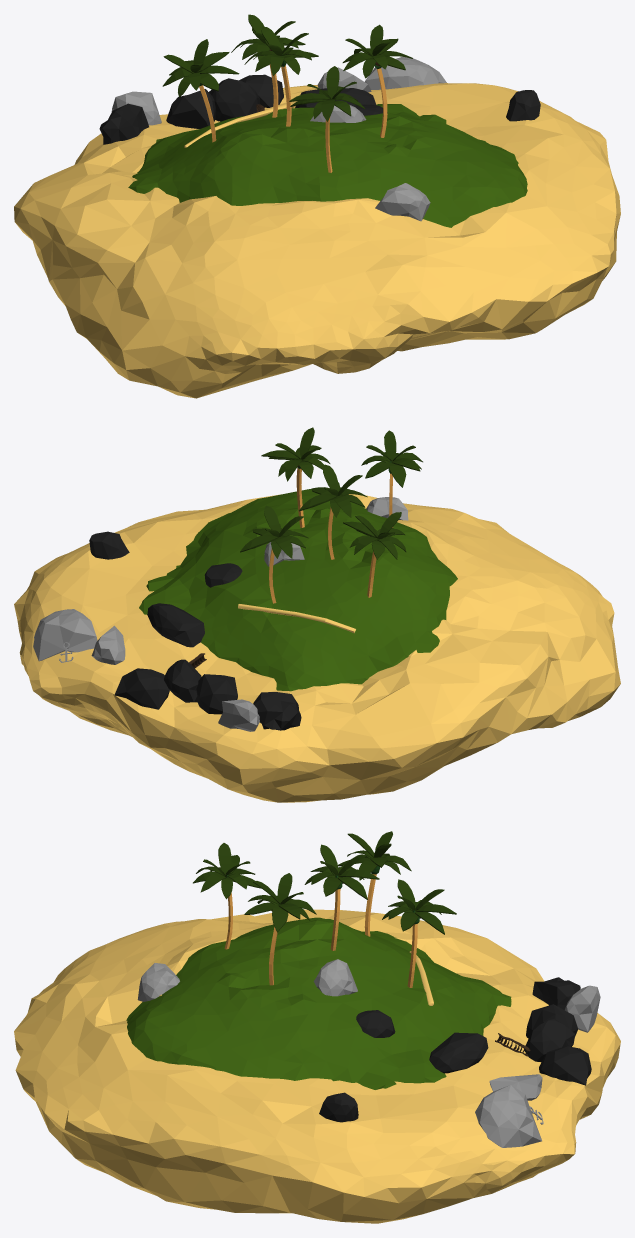
Rendered from island_4.glb.
3 renders of one model, top to bottom at view 1: azimuth 30°, elevation 25°; view 2: azimuth 150°, elevation 25°; view 3: azimuth 270°, elevation 25°, orthographic. The views are drawn at different scales.
Parts seen in each view (by area): view 1: island, grass, palm, rock7, Cube.015, Cube.012, rock5, rock1, Cube.024, Cube.030, Cube.016, Cube.025 (+2 smaller); view 2: island, grass, rock7, palm, Cube.025, Cube.016, rock5, Cube.012, Cube.015, Cube.030, rock4, Cube.024 (+3 smaller); view 3: island, grass, rock7, palm, Cube.025, Cube.016, Cube.015, Cube.023, Cube.030, rock1, rock5, Cube.024 (+3 smaller).
Part boxes in pixels (x1,y1,x2,y2): island: (14,83,620,398); grass: (128,104,527,227); palm: (342,24,412,137); rock7: (365,56,446,89); Cube.015: (209,78,259,121); Cube.012: (166,89,215,128); rock5: (99,103,148,144); rock1: (375,183,430,221); Cube.024: (506,90,540,121); Cube.030: (111,91,161,125); Cube.016: (239,74,283,107); Cube.025: (295,88,376,107); island: (14,494,620,802); grass: (139,489,457,691); rock7: (33,609,97,661); palm: (261,427,330,527); Cube.025: (147,603,204,647); Cube.016: (114,668,169,709); rock5: (253,692,301,730); Cube.012: (196,674,237,714); Cube.015: (164,659,201,702); Cube.030: (218,699,259,731); rock4: (91,625,125,664); Cube.024: (89,531,129,559); island: (14,909,620,1223); grass: (126,917,511,1089); rock7: (475,1085,541,1147); palm: (244,873,316,985); Cube.025: (429,1032,488,1073); Cube.016: (539,1046,591,1085); Cube.015: (524,1018,575,1062); Cube.023: (313,959,357,996); Cube.030: (565,985,600,1032); rock1: (137,963,179,1001); rock5: (532,977,580,1009); Cube.024: (319,1092,358,1122).
Size of the model in its own units: 14.01 by 6.32 by 13.19.
